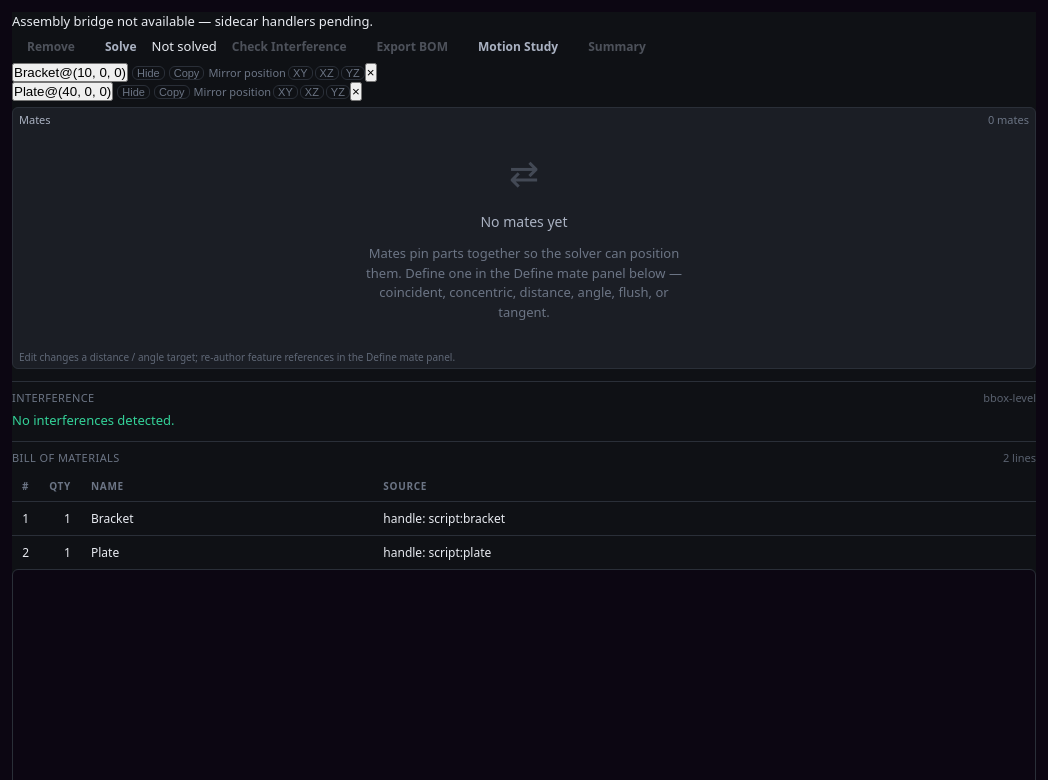
Test case: AssemblyView (DOM) — Copy row action › appends ONE new instance with a fresh id, +X offset, and the same geometry source
Click the button with test id "design-assembly-part-p1-copy".
click(187, 73)  # box [169,66,204,80]
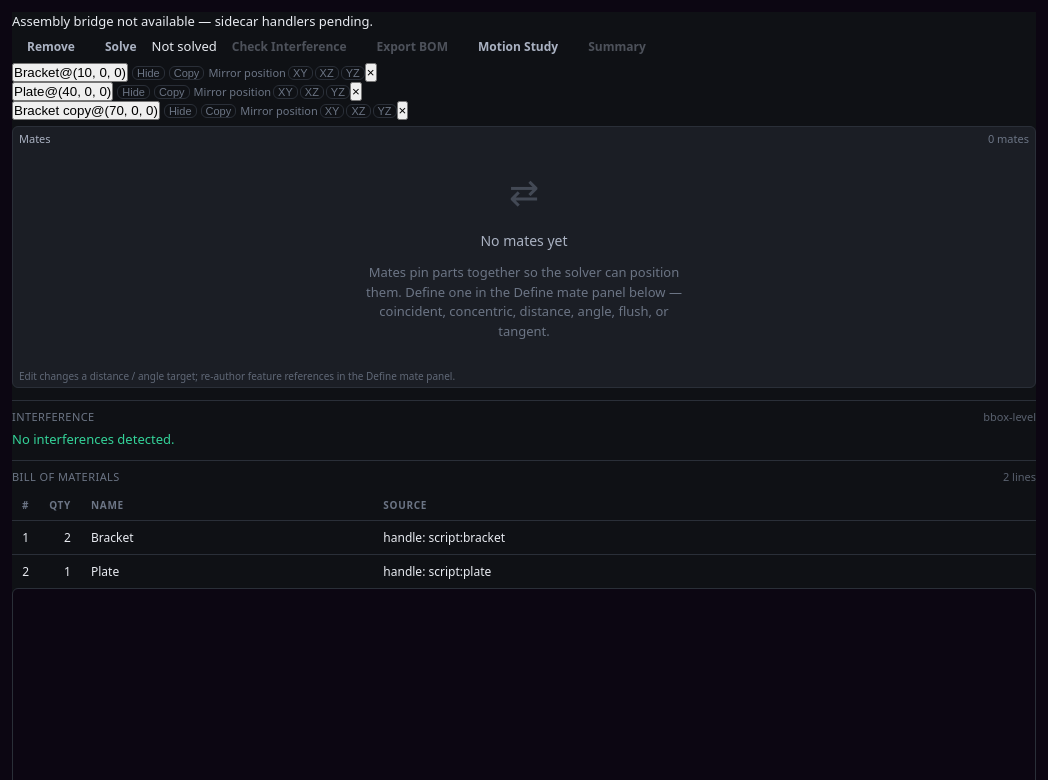
Result: the text "Bracket copy" is shown at [14,103,91,118]
